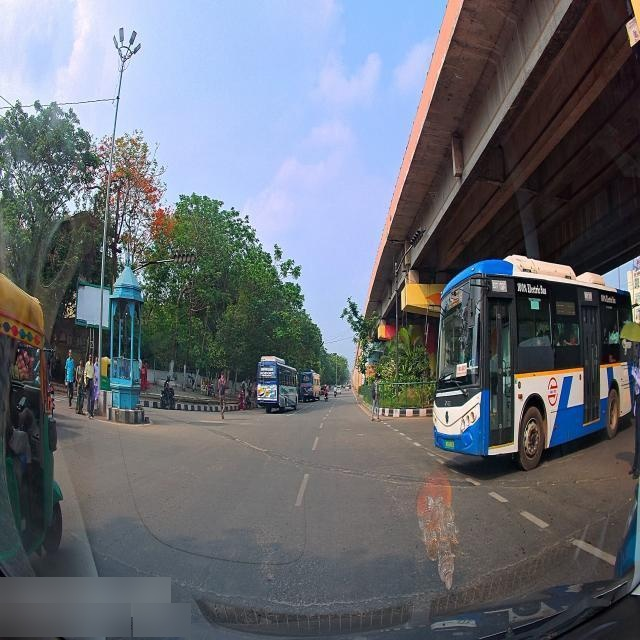pothole: (227, 432, 286, 462), (325, 462, 357, 479)
